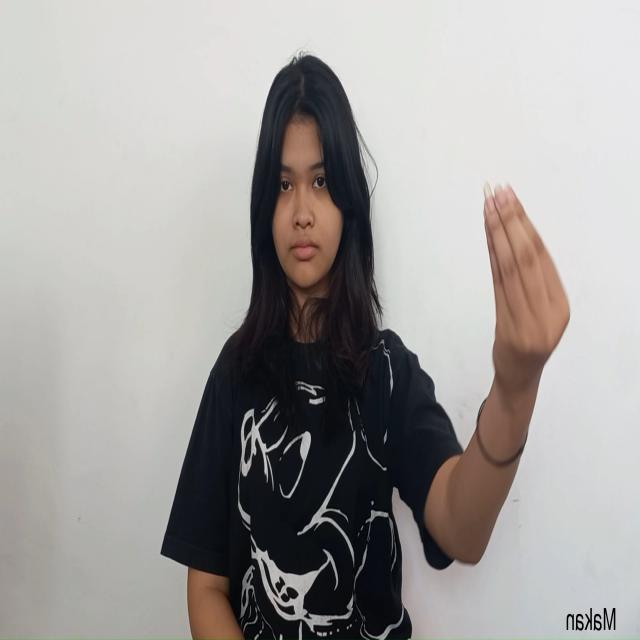Makan -BISINDO-: (482, 180, 573, 408)
